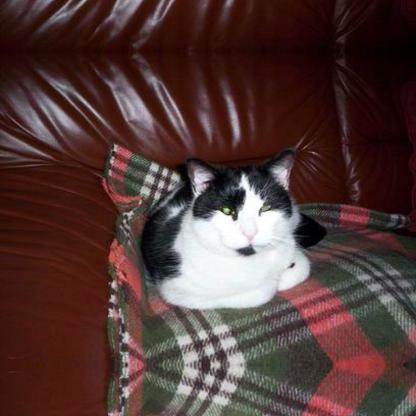Cat: (138, 148, 328, 310)
